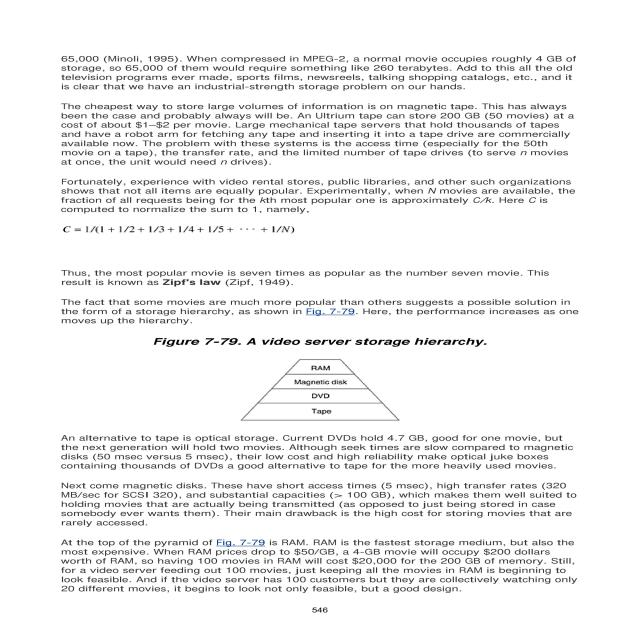diagram: (114, 331, 532, 428)
